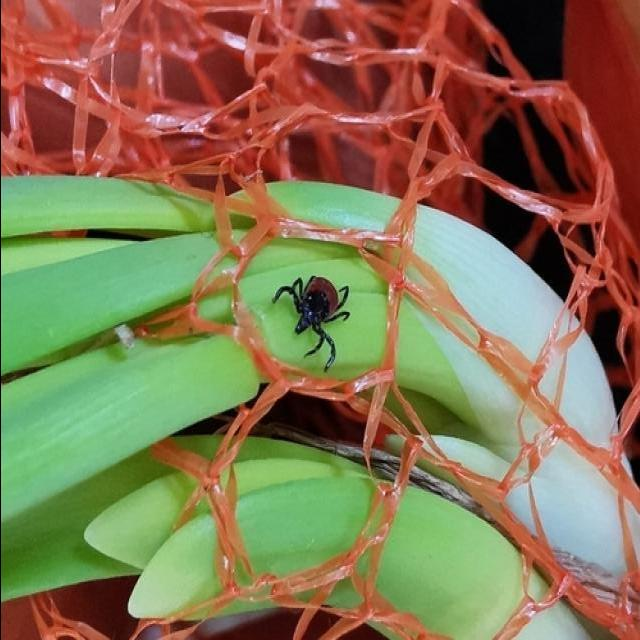Ixodes Ricinus-F: (271, 276, 349, 370)
